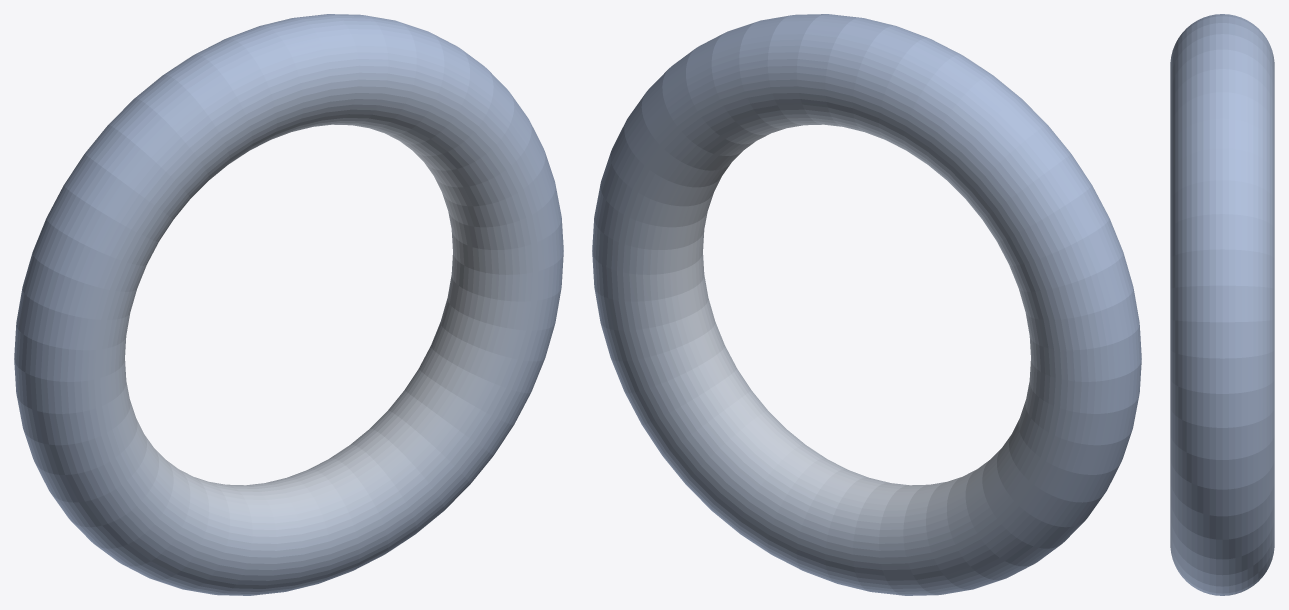
The picture shows the model from 3 angles, left to right: view 1: azimuth 30°, elevation 25°; view 2: azimuth 150°, elevation 25°; view 3: azimuth 270°, elevation 25°; orthographic projection. The views are drawn at different scales.
Visible parts, largest first — view 1: world; view 2: world; view 3: world.
Part boxes in pixels (left/top/right/bottom): world: left=14, top=14, right=563, bottom=595; world: left=592, top=14, right=1141, bottom=595; world: left=1170, top=14, right=1274, bottom=595.
Bounding box in the file's own units: 26 × 25.95 × 4.66.
